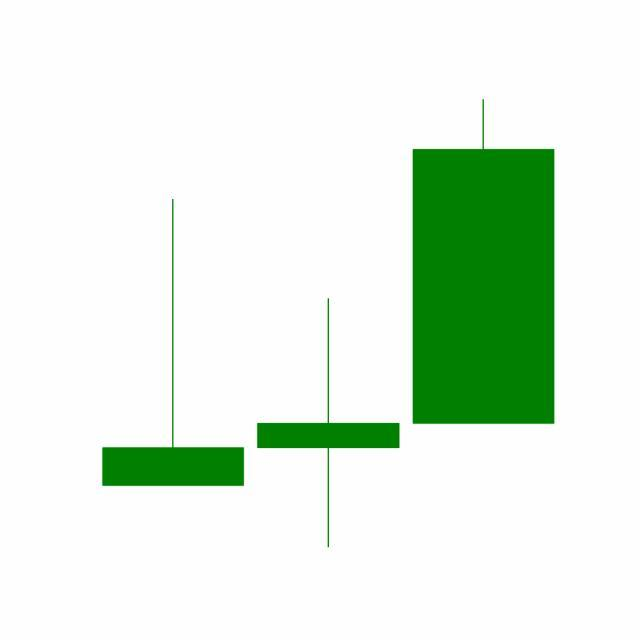Spinning Top: (250, 295, 407, 551)
